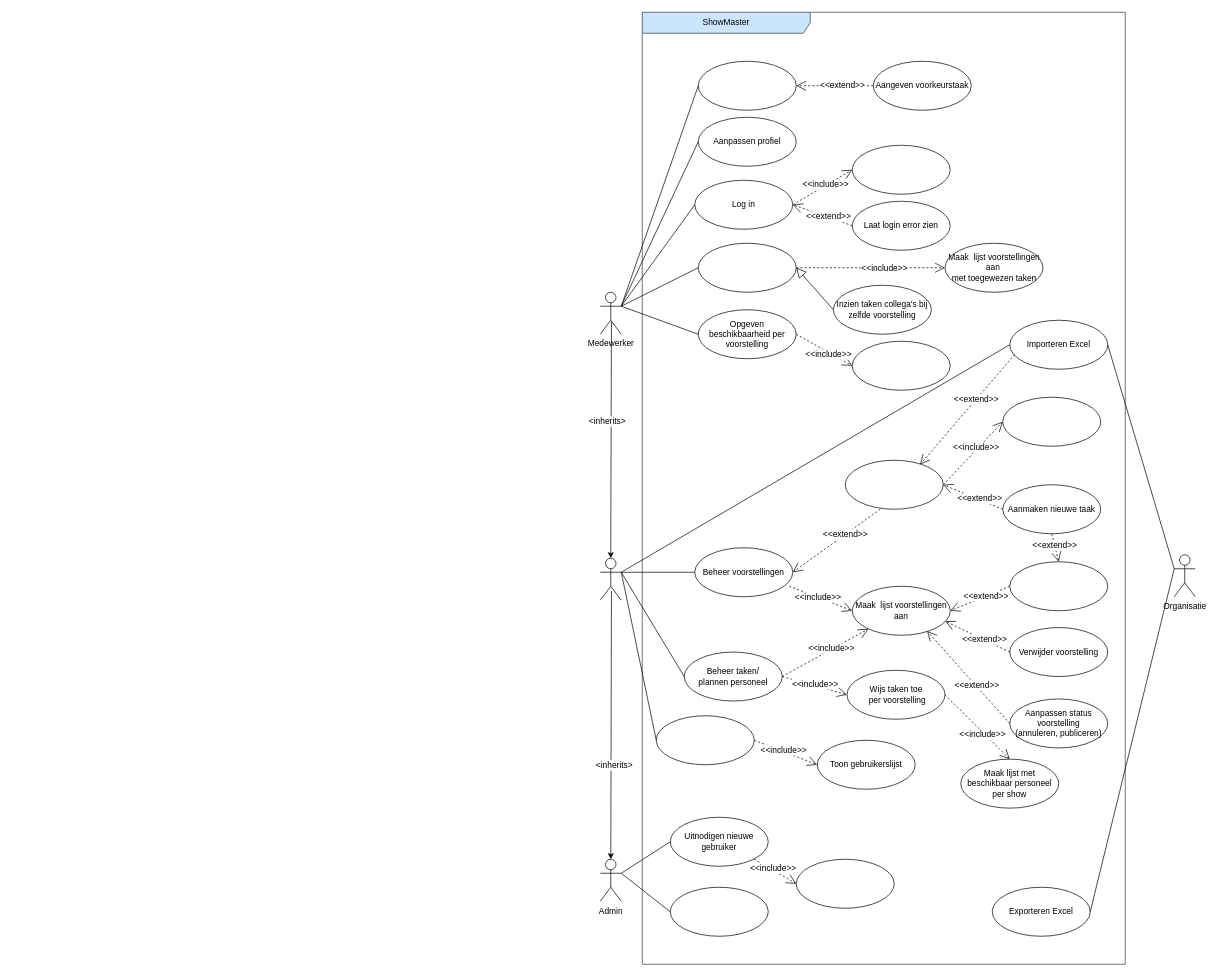
The diagram is 1218 pixels wide and 977 high, and some of its shapes have lost their labels. The shapes that lost their labels are listed below. From the top down, each one's centre as x and y in pixels, then its label:
(x=747, y=85): Aanmaken profiel/ account
(x=901, y=169): Check inloggegevens
(x=747, y=267): Inzien persoonlijke taken
(x=901, y=365): Maak lijst gepubliceerde shows aan
(x=1051, y=421): Invullen aantal personen per taak
(x=894, y=484): Maak voorstelling aan
(x=610, y=579): Planner
(x=1058, y=586): Wijzig voorstelling
(x=705, y=740): Verwijderen gebruiker
(x=845, y=883): Aangeven (eventuele) vaste taak
(x=719, y=911): Beheer rol (admin, planner)
